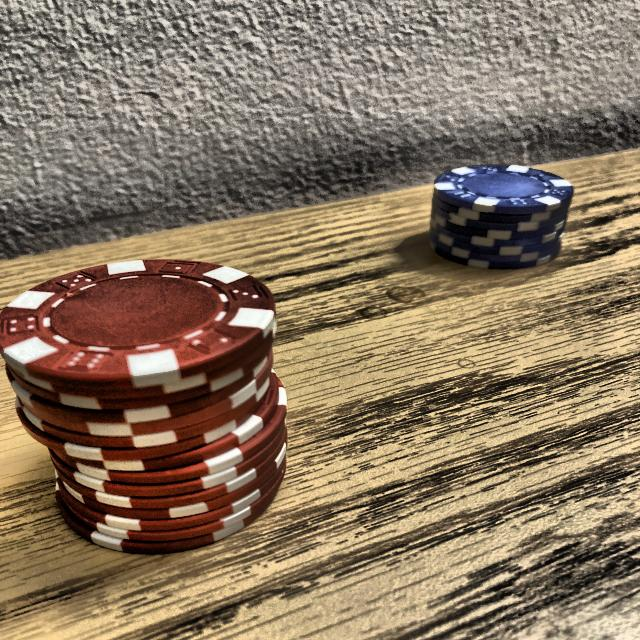Chip: (0, 219, 336, 566), (421, 158, 579, 279)
